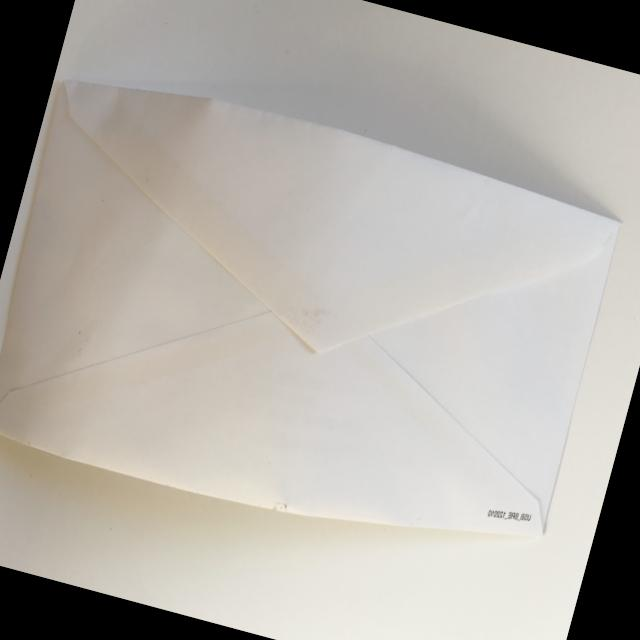Paper: (0, 55, 632, 582)
